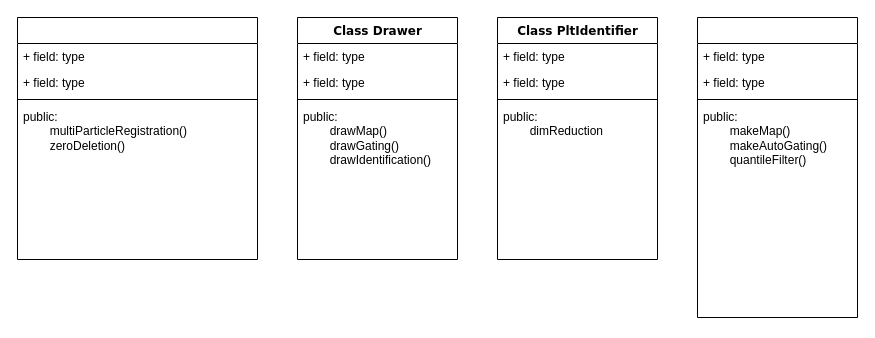
Image size: 875x338. Some labels were removed from this diagram. The shapes that lost their labels are listed below. From the top down, each one's box as (x1, y1, x2, y2) in pixels, then its label:
(16, 16, 258, 260): Class Purifier
(696, 16, 858, 318): Class AutoGater
